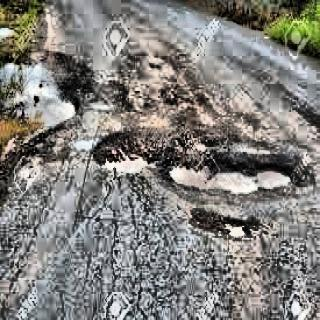pothole: (167, 131, 316, 200), (2, 40, 82, 156), (105, 124, 156, 202), (187, 202, 258, 248)
